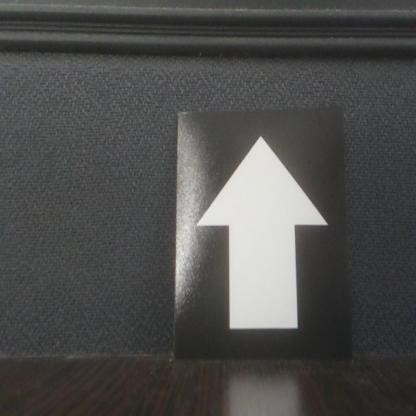up: (178, 111, 345, 359)
